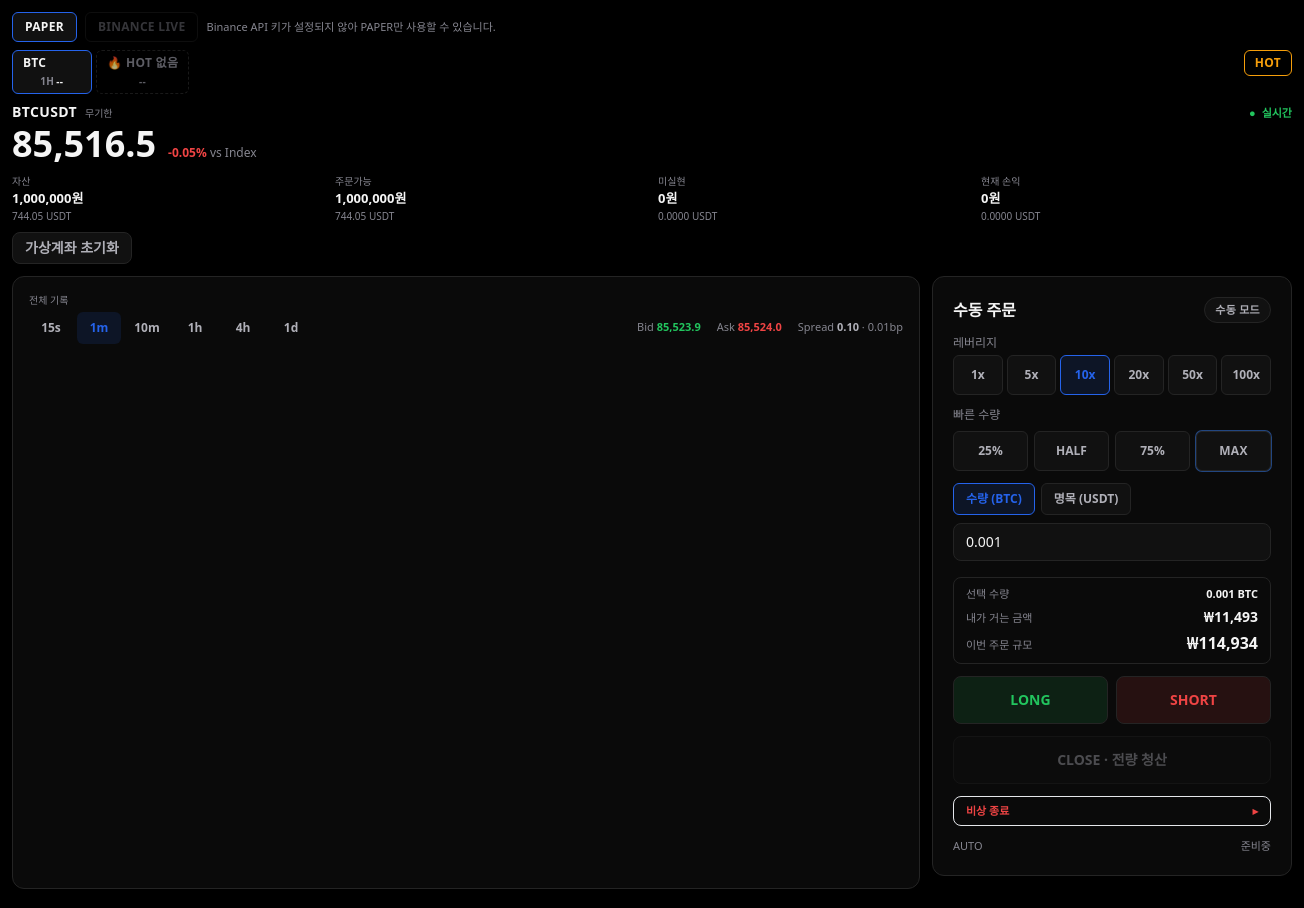
in the terminal at 390px › BTC is fixed, ETH/SOL tabs are gone, and HOT makes the #1 the selected symbol
The image size is (1304, 908).
Expected: the header with test id "market-header" is shown, [12, 102, 1292, 264]
Expected: the tab with test id "symbol-tab-hot" shows "HOT 없음", [96, 50, 189, 94]
Click the button with test id "hot-scan-button" at x=1268, y=63, box [1244, 50, 1292, 76]
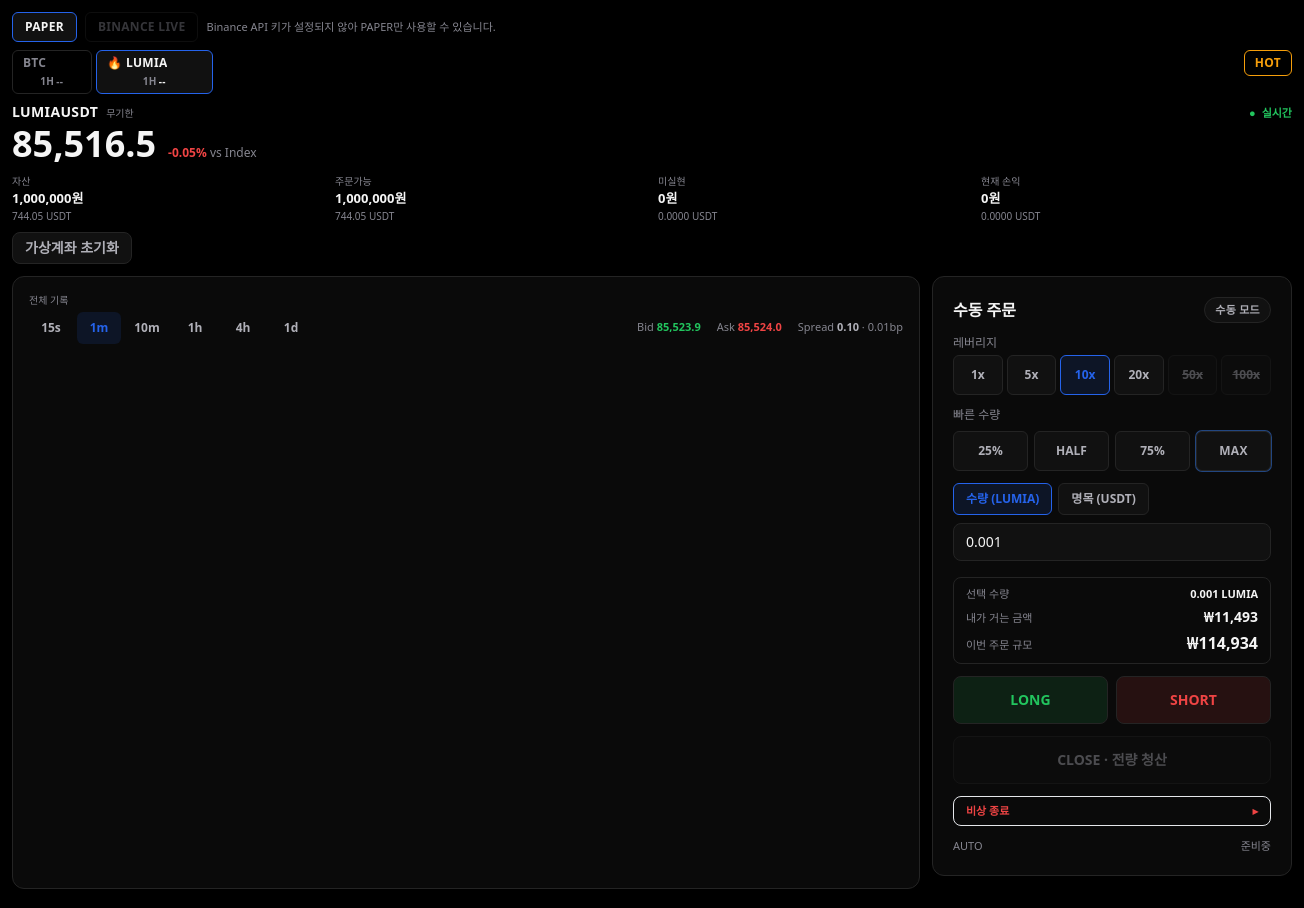
Expected: the tab with test id "symbol-tab-hot" shows "🔥", [96, 50, 213, 94]
Expected: the tab with test id "symbol-tab-hot" shows "LUMIA", [96, 50, 213, 94]
Expected: the text "LUMIAUSDT" is shown, [12, 102, 98, 122]
